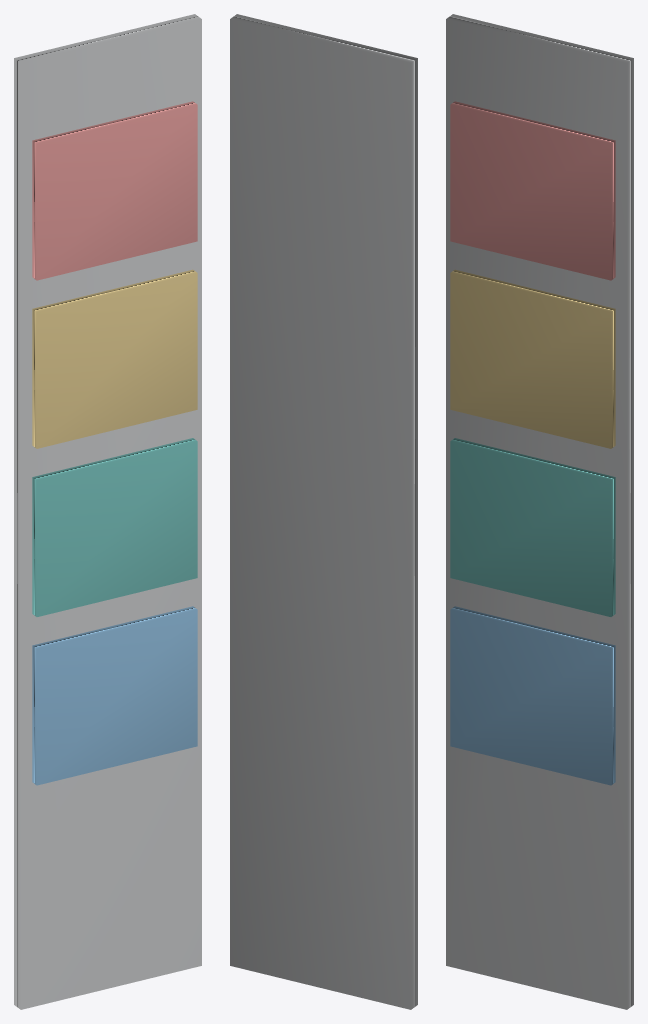
The model's file is ph-strip.glb.
3 views of the same model, side by side, from view 1: azimuth 30°, elevation 25°; view 2: azimuth 150°, elevation 25°; view 3: azimuth 330°, elevation 25° (orthographic).
Parts seen in each view (by area): view 1: paper, color_patch_0, color_patch_3, color_patch_1, color_patch_2; view 2: paper; view 3: paper, color_patch_0, color_patch_3, color_patch_1, color_patch_2.
Boxes of the visible parts, x1,y1,x2,y2 form: paper: (14,14,201,1009); color_patch_0: (32,101,197,280); color_patch_3: (32,606,197,785); color_patch_1: (32,269,197,448); color_patch_2: (32,438,197,616); paper: (230,14,417,1009); paper: (446,14,633,1009); color_patch_0: (450,101,615,280); color_patch_3: (450,606,615,785); color_patch_1: (450,269,615,448); color_patch_2: (450,438,615,616).
Size of the model in its own units: 0.18 by 0.9 by 0.022.
